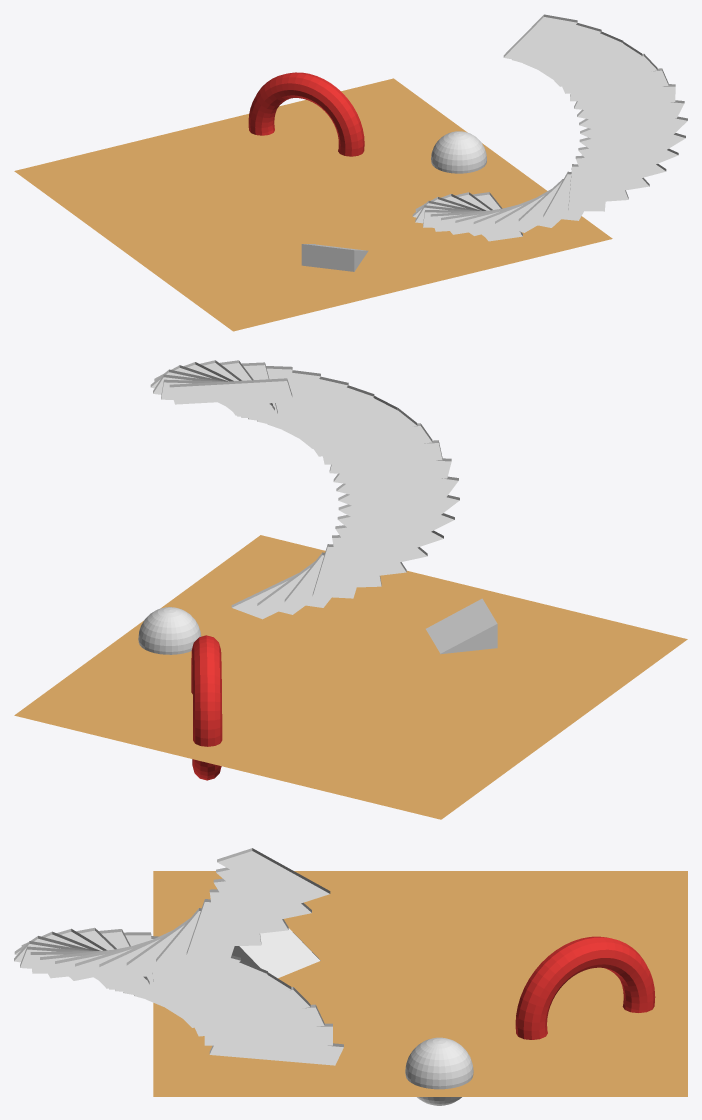
Rendered from space.glb.
3 renders of one model, top to bottom at view 1: azimuth 30°, elevation 25°; view 2: azimuth 150°, elevation 25°; view 3: azimuth 270°, elevation 25°, orthographic. The views are drawn at different scales.
Visible parts, largest first — view 1: Plane, Cube.001, Torus, Sphere, Cube; view 2: Plane, Cube.001, Torus, Cube, Sphere; view 3: Plane, Cube.001, Torus, Sphere, Cube.
Part boxes in pixels (x1,y1,x2,y2): Plane: (14, 78, 612, 331); Cube.001: (412, 14, 687, 241); Torus: (248, 72, 364, 156); Sphere: (431, 131, 486, 173); Cube: (301, 244, 368, 271); Plane: (14, 535, 687, 819); Cube.001: (150, 360, 459, 619); Torus: (191, 635, 222, 780); Cube: (426, 598, 497, 654); Sphere: (138, 607, 201, 654); Plane: (153, 871, 687, 1096); Cube.001: (14, 848, 343, 1065); Torus: (515, 936, 655, 1039); Sphere: (405, 1037, 473, 1105); Cube: (232, 928, 320, 978).
Bounding box in the file's own units: 1461 × 692 × 1564.
